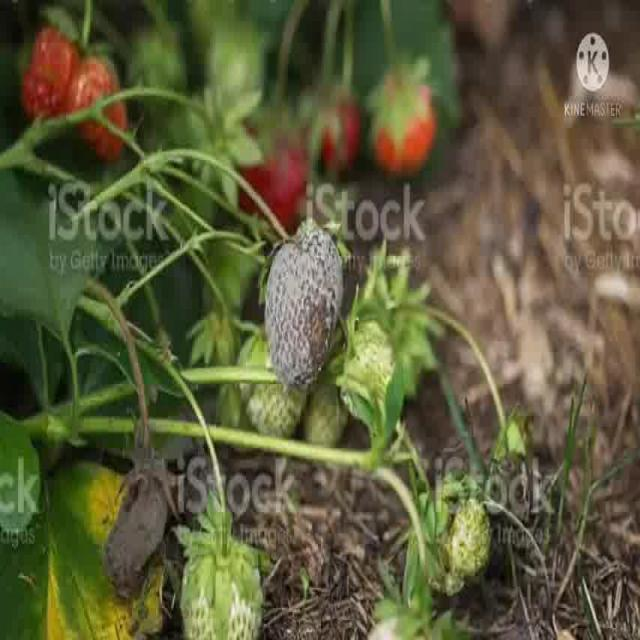Fruta sana: (179, 526, 266, 640), (235, 107, 307, 236), (364, 55, 438, 180), (19, 7, 84, 132), (337, 313, 408, 420), (71, 40, 130, 155), (306, 68, 364, 182), (358, 588, 469, 640), (298, 377, 356, 465), (447, 483, 490, 582), (498, 412, 537, 464)
Moho gris: (263, 215, 346, 385), (108, 423, 174, 592), (231, 323, 310, 440)
